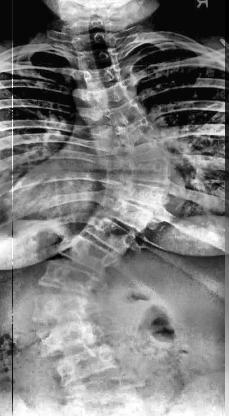Vertebrae: (54, 232, 121, 274), (80, 216, 144, 254), (38, 322, 104, 356), (56, 348, 122, 382), (94, 192, 156, 228), (37, 261, 99, 297), (103, 176, 167, 210), (31, 295, 94, 325), (84, 102, 146, 128), (94, 123, 158, 147), (107, 158, 166, 184), (99, 142, 167, 164), (76, 86, 134, 110), (76, 65, 126, 89), (70, 30, 120, 52), (73, 50, 123, 68)
